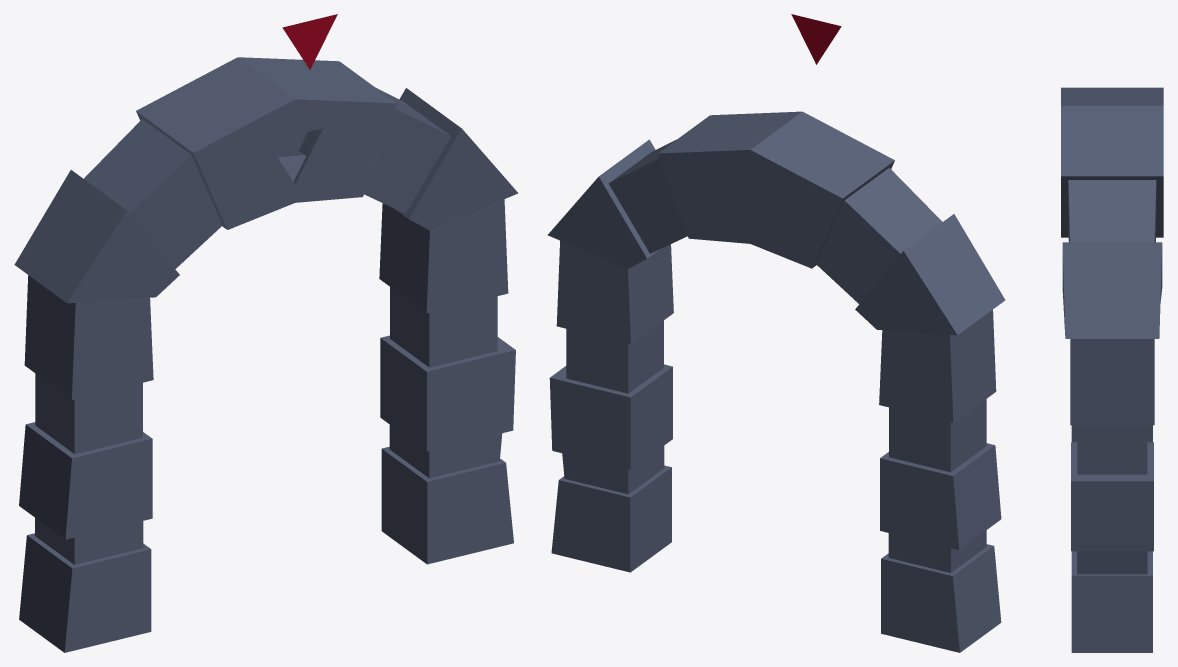
Rendered from door-arc.glb.
3 views of the same model, side by side, from view 1: azimuth 30°, elevation 25°; view 2: azimuth 150°, elevation 25°; view 3: azimuth 270°, elevation 25° (orthographic). The views are drawn at different scales.
Visible parts, largest first — view 1: door arc; view 2: door arc; view 3: door arc.
Part boxes in pixels (bbox=[...]): door arc: bbox=[14, 14, 517, 652]; door arc: bbox=[547, 14, 1005, 652]; door arc: bbox=[1061, 87, 1163, 652].
Size of the model in its own units: 2 by 2.51 by 0.5564.
